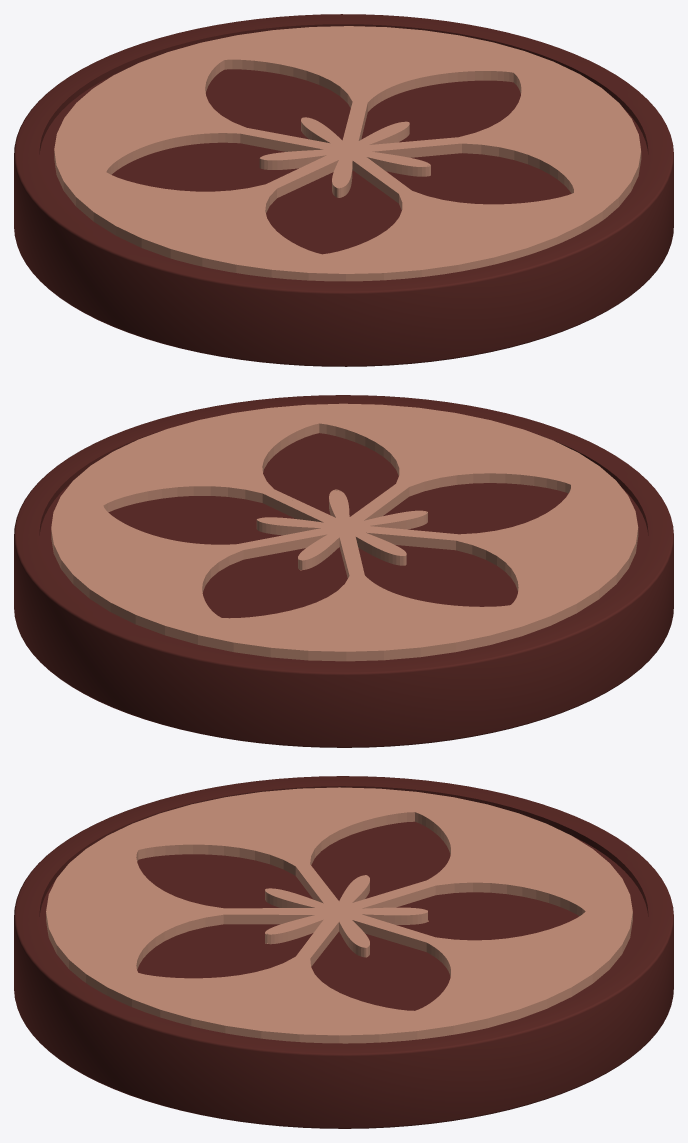
File: Rhododendrone_R.fbx
The picture shows the model from 3 angles, top to bottom: view 1: azimuth 30°, elevation 25°; view 2: azimuth 150°, elevation 25°; view 3: azimuth 270°, elevation 25°; orthographic projection.
Parts seen in each view (by area): view 1: Tile09.002; view 2: Tile09.002; view 3: Tile09.002.
Part boxes in pixels (bbox=[...]): Tile09.002: bbox=[14, 14, 673, 366]; Tile09.002: bbox=[14, 395, 673, 747]; Tile09.002: bbox=[14, 776, 673, 1128].
Bounding box in the file's own units: 13.25 × 1.76 × 13.25.
